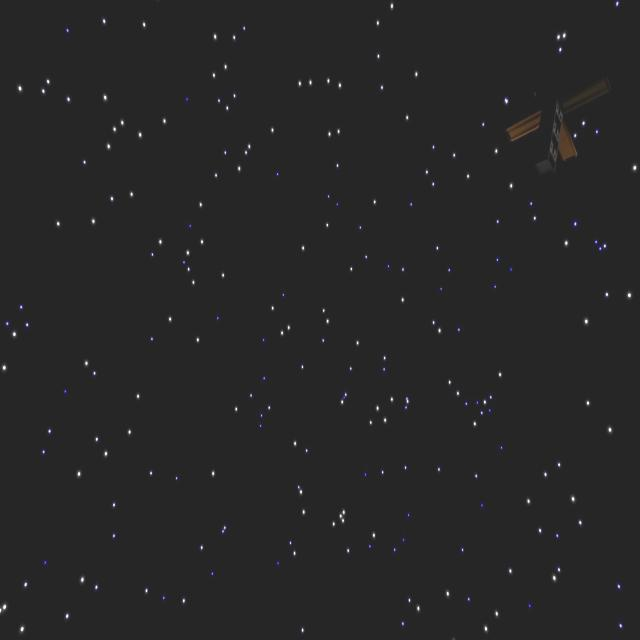medium_debris: (496, 73, 624, 178)
